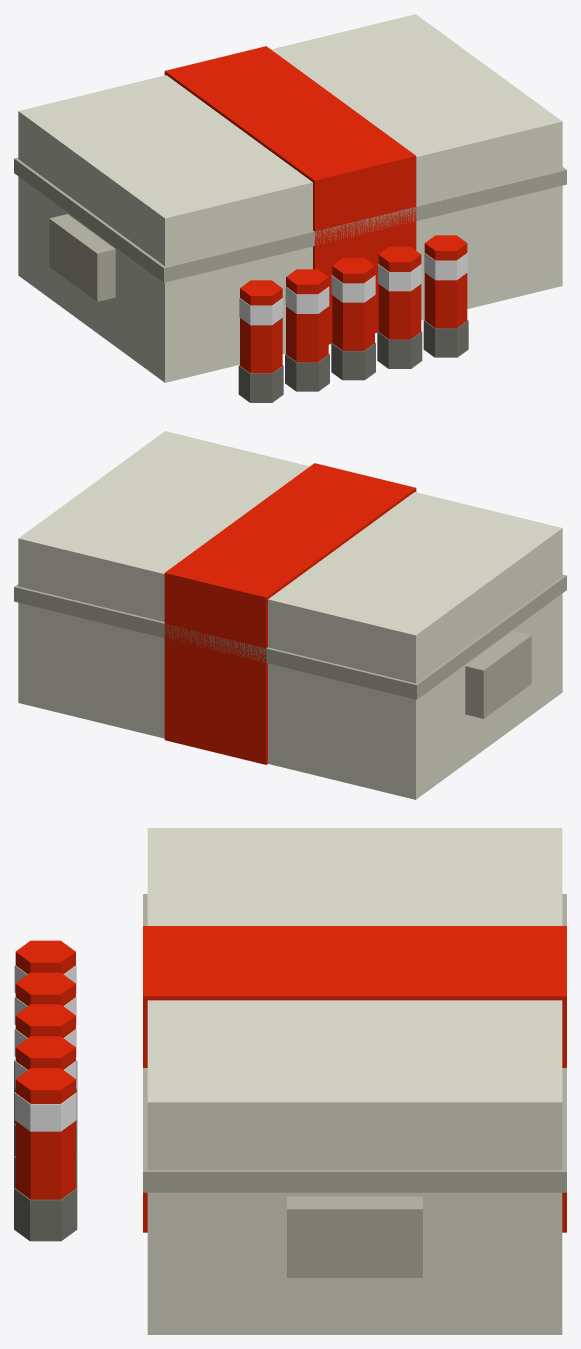
Rendered from ce_ammo_chshotgun_conc_c.obj.
3 views of the same model, one above another, from view 1: azimuth 30°, elevation 25°; view 2: azimuth 150°, elevation 25°; view 3: azimuth 270°, elevation 25° (orthographic). The views are drawn at different scales.
Visible parts, largest first — view 1: ce_ammo_chshotgun_conc_c_0, ce_ammo_chshotgun_conc_c_1, ce_ammo_chshotgun_conc_c_2, ce_ammo_chshotgun_conc_c_3, ce_ammo_chshotgun_conc_c_15, ce_ammo_chshotgun_conc_c_18, ce_ammo_chshotgun_conc_c_6, ce_ammo_chshotgun_conc_c_9, ce_ammo_chshotgun_conc_c_12, ce_ammo_chshotgun_conc_c_17, ce_ammo_chshotgun_conc_c_5, ce_ammo_chshotgun_conc_c_14 (+7 smaller); view 2: ce_ammo_chshotgun_conc_c_0, ce_ammo_chshotgun_conc_c_1, ce_ammo_chshotgun_conc_c_2, ce_ammo_chshotgun_conc_c_3; view 3: ce_ammo_chshotgun_conc_c_0, ce_ammo_chshotgun_conc_c_1, ce_ammo_chshotgun_conc_c_4, ce_ammo_chshotgun_conc_c_2, ce_ammo_chshotgun_conc_c_18, ce_ammo_chshotgun_conc_c_17, ce_ammo_chshotgun_conc_c_19, ce_ammo_chshotgun_conc_c_6, ce_ammo_chshotgun_conc_c_9, ce_ammo_chshotgun_conc_c_12, ce_ammo_chshotgun_conc_c_15.
Part boxes in pixels (box(x1,y1,x2,y2)): ce_ammo_chshotgun_conc_c_0: box(18, 14, 562, 382); ce_ammo_chshotgun_conc_c_1: box(164, 46, 416, 344); ce_ammo_chshotgun_conc_c_2: box(14, 157, 566, 282); ce_ammo_chshotgun_conc_c_3: box(49, 214, 115, 301); ce_ammo_chshotgun_conc_c_15: box(378, 246, 421, 339); ce_ammo_chshotgun_conc_c_18: box(424, 235, 467, 328); ce_ammo_chshotgun_conc_c_6: box(240, 280, 282, 373); ce_ammo_chshotgun_conc_c_9: box(286, 269, 328, 362); ce_ammo_chshotgun_conc_c_12: box(332, 258, 374, 350); ce_ammo_chshotgun_conc_c_17: box(423, 320, 468, 357); ce_ammo_chshotgun_conc_c_5: box(238, 365, 283, 402); ce_ammo_chshotgun_conc_c_14: box(377, 331, 422, 368); ce_ammo_chshotgun_conc_c_0: box(18, 431, 562, 799); ce_ammo_chshotgun_conc_c_1: box(164, 463, 416, 764); ce_ammo_chshotgun_conc_c_2: box(14, 574, 566, 699); ce_ammo_chshotgun_conc_c_3: box(465, 631, 531, 718); ce_ammo_chshotgun_conc_c_0: box(147, 828, 562, 1334); ce_ammo_chshotgun_conc_c_1: box(143, 926, 566, 1232); ce_ammo_chshotgun_conc_c_4: box(287, 1196, 422, 1277); ce_ammo_chshotgun_conc_c_2: box(143, 894, 566, 1192); ce_ammo_chshotgun_conc_c_18: box(15, 1068, 75, 1199); ce_ammo_chshotgun_conc_c_17: box(14, 1187, 77, 1241); ce_ammo_chshotgun_conc_c_19: box(14, 1092, 76, 1131); ce_ammo_chshotgun_conc_c_6: box(15, 940, 75, 974); ce_ammo_chshotgun_conc_c_9: box(15, 972, 75, 1005); ce_ammo_chshotgun_conc_c_12: box(15, 1004, 75, 1037); ce_ammo_chshotgun_conc_c_15: box(15, 1036, 75, 1069).
Size of the model in its own units: 0.94 by 0.346 by 0.733.
